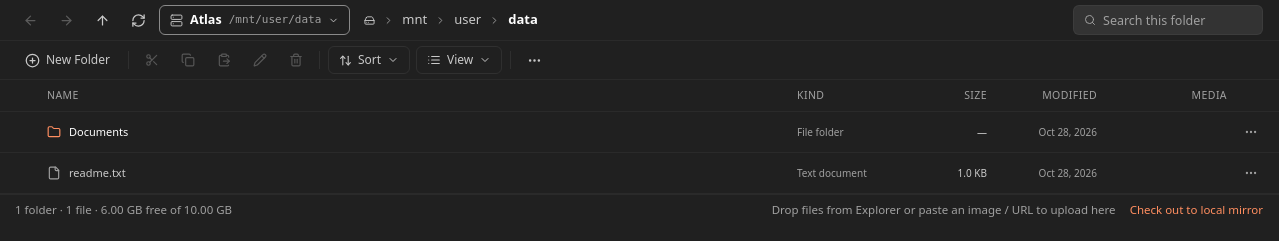
it: BrowseView favorites — overflow menu toggle › reads "Add to favourites" when the current folder is not saved
Expected: the text "readme.txt" is shown, [69,165,126,181]
Click the button named "More options" at {"x": 534, "y": 60}, box [519,45,549,75]
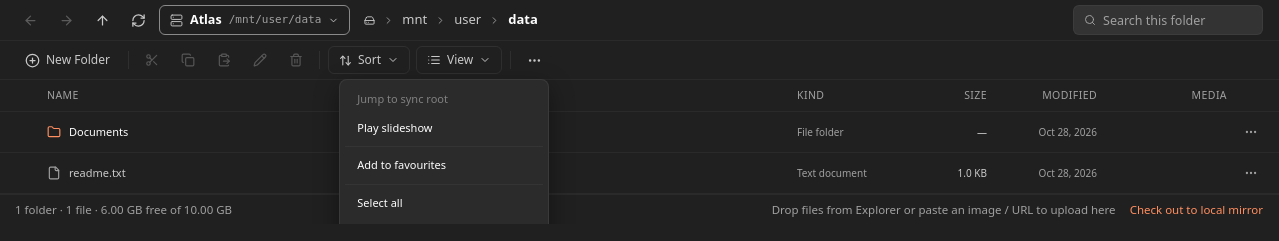
Expected: the menu item "Add to favourites" is shown, [345,151,543,180]
